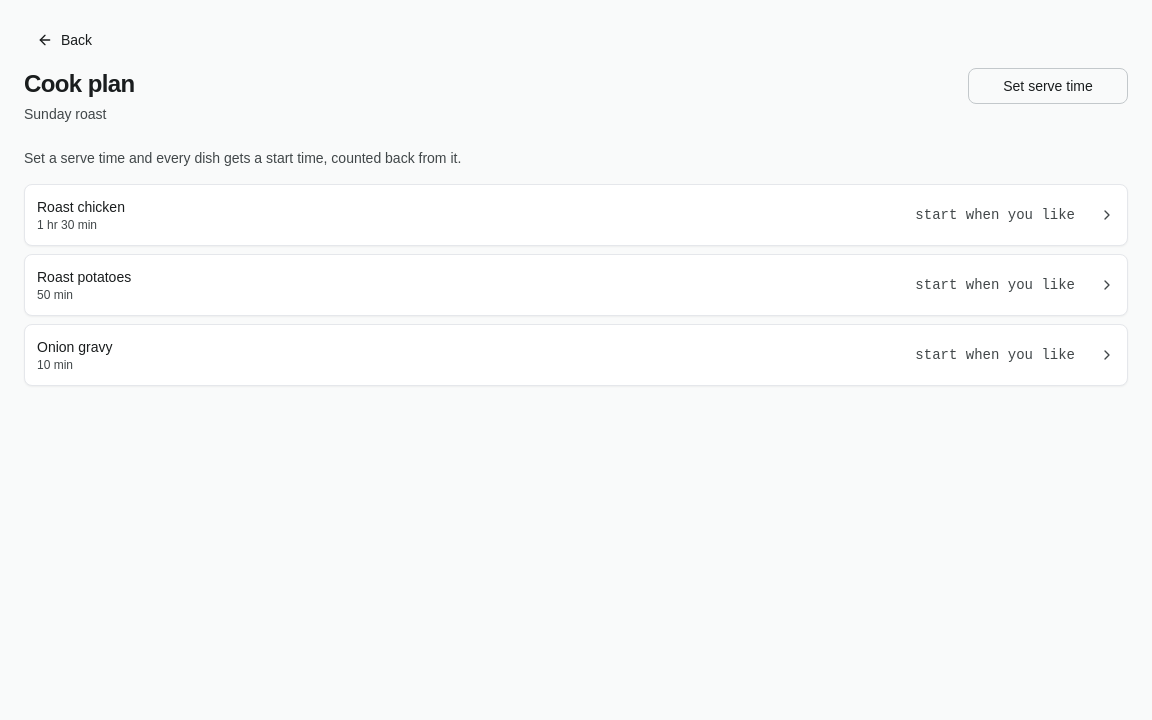
Test case: MealCookPlanPage — the serve time and the clock › offers the dinner window 16:00–22:45 on the quarter hour, and nothing outside it
The width and height of the screenshot is (1152, 720).
Click the button with test id "cook-plan-serve-trigger": [1048, 86] box [968,68,1128,104]
(page scrolled)
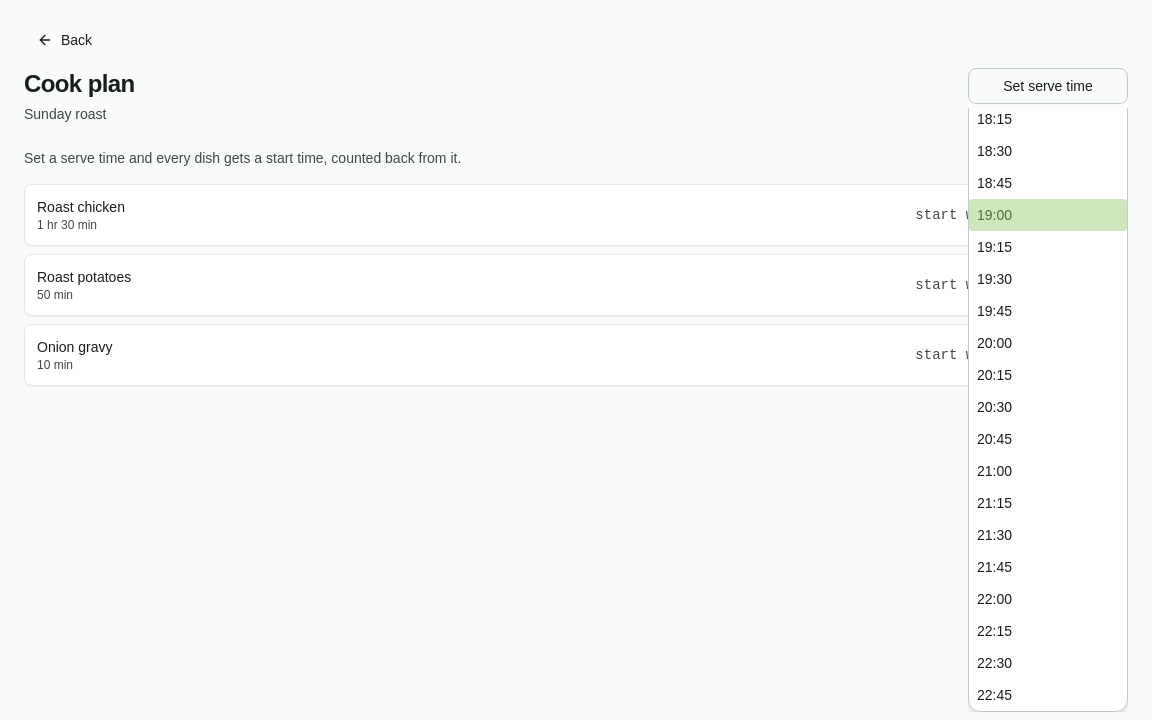
Result: the option "19:00" is shown at [969,199,1127,231]
Result: the option "22:45" is shown at [977,687,1012,703]
